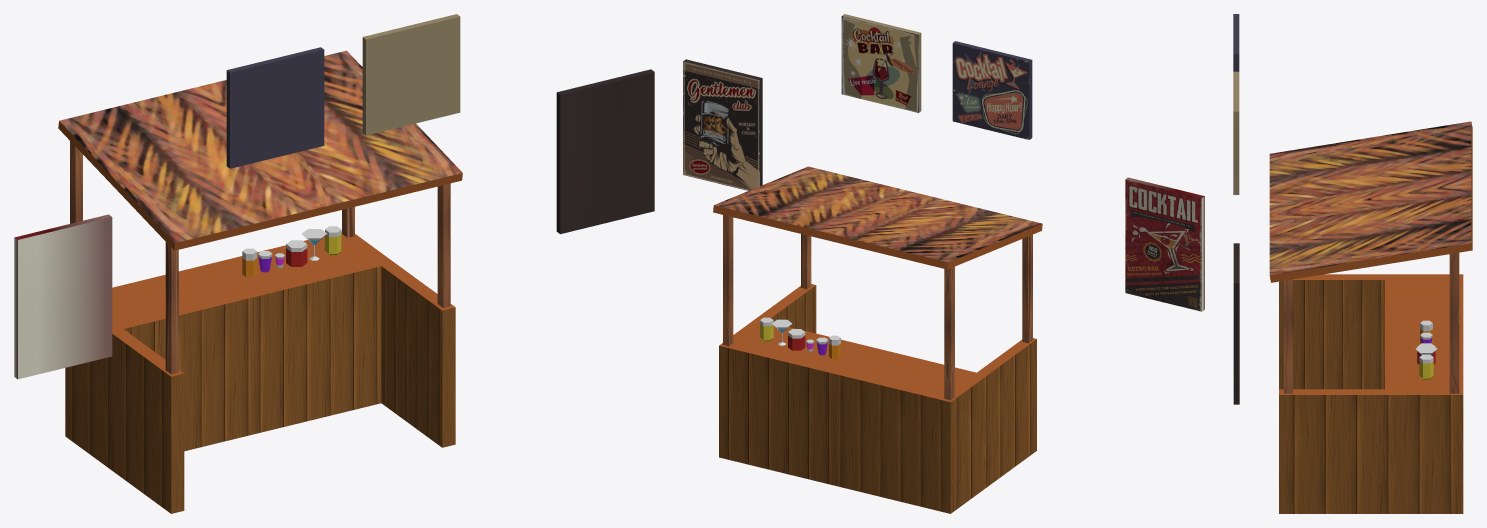
File: Back5.fbx
3 views of the same model, side by side, from view 1: azimuth 30°, elevation 25°; view 2: azimuth 150°, elevation 25°; view 3: azimuth 270°, elevation 25° (orthographic). The views are drawn at different scales.
Visible parts, largest first — view 1: Back5; view 2: Back5; view 3: Back5.
Part boxes in pixels (bbox=[...]): Back5: bbox=[14, 14, 654, 513]; Back5: bbox=[683, 14, 1204, 513]; Back5: bbox=[1233, 14, 1472, 513].
Bounding box in the file's own units: 6979 × 2618 × 4739.
